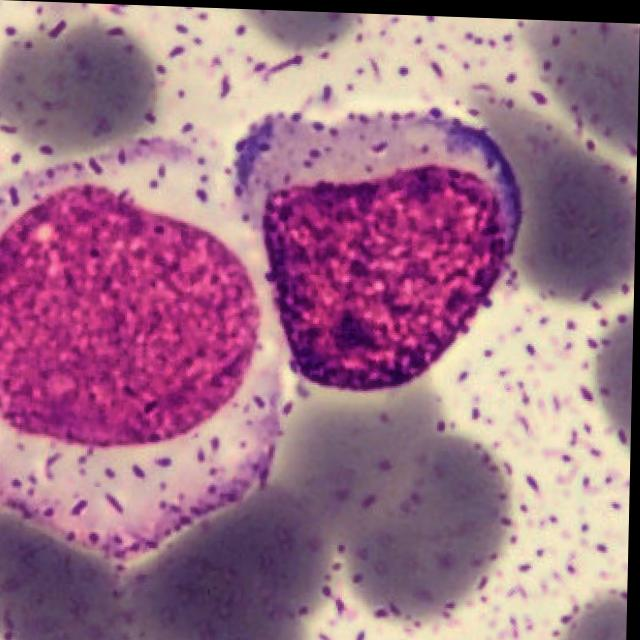Mieloblasto: (0, 137, 294, 567), (232, 110, 523, 386)
